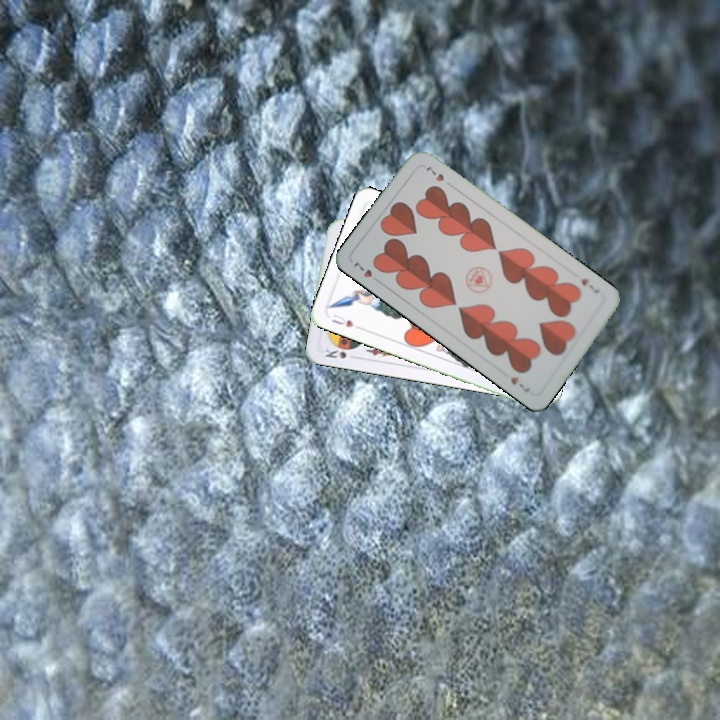H7: (349, 258, 384, 286), (577, 274, 602, 296)
HU: (328, 310, 364, 332)
SK: (321, 343, 355, 361)
